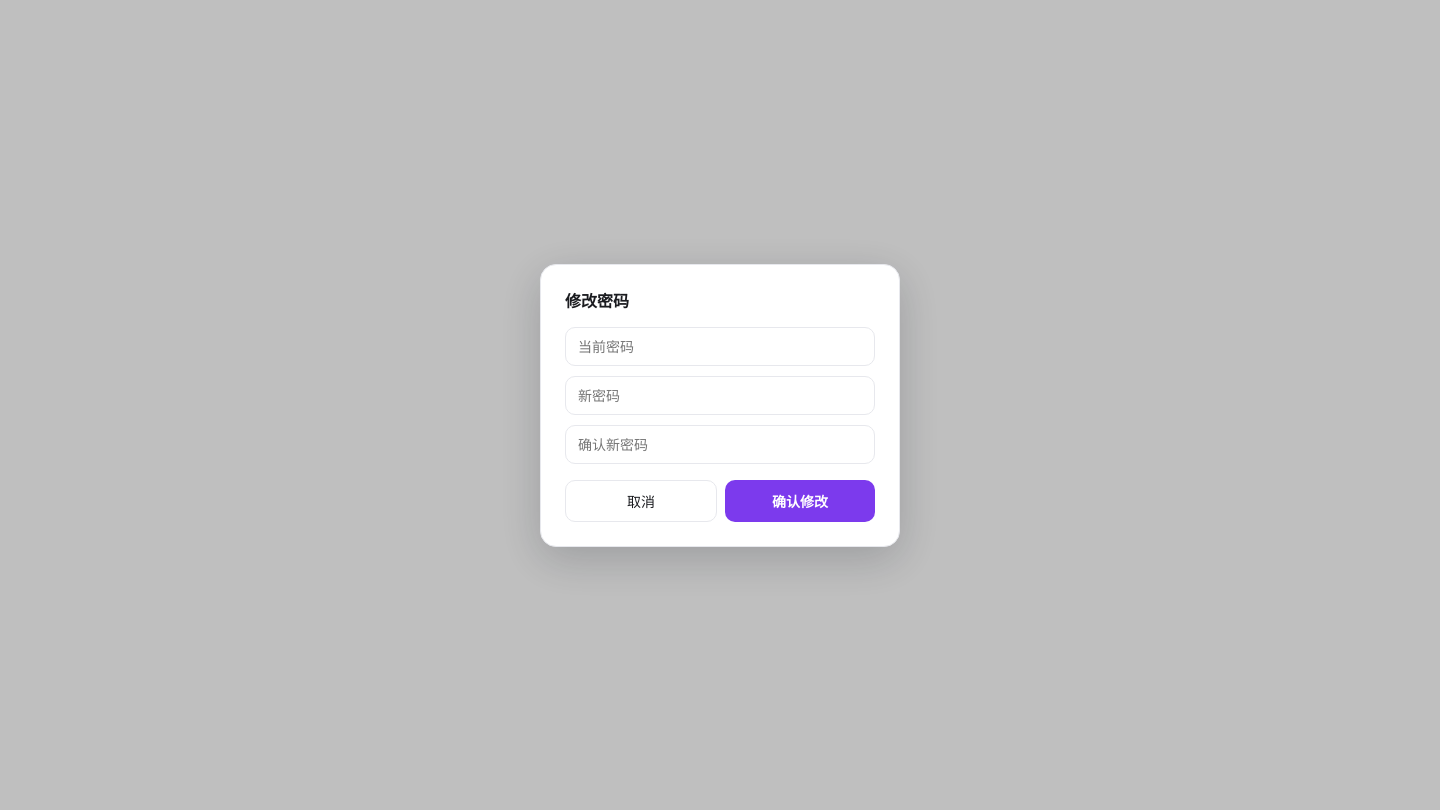
Test case: ChangePasswordDialog › 两次新密码不一致 → 前端拦截, 不调接口
Type "oldpass12" into the password field with placeholder "当前密码". click: [720, 346]
box: [565,326,875,366]
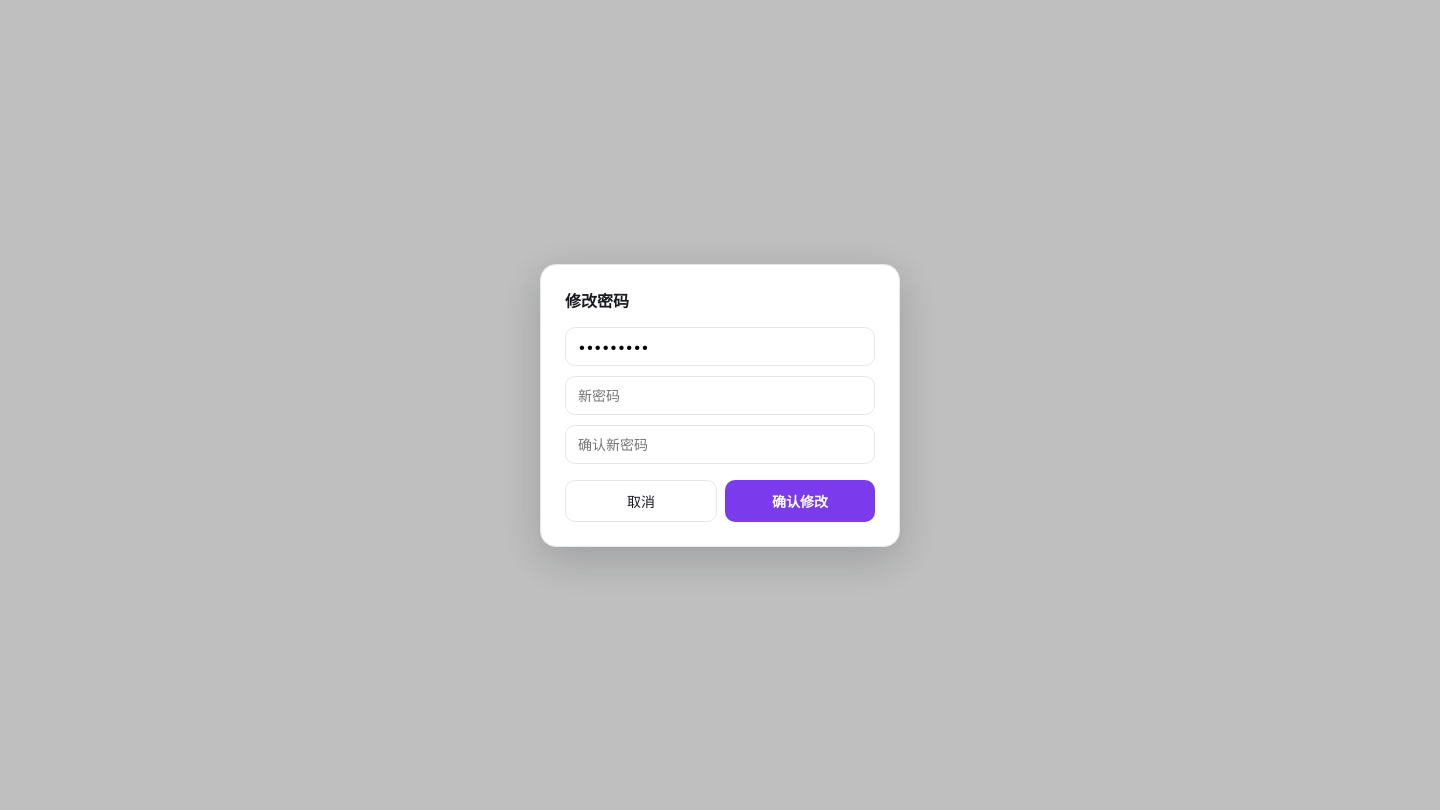
Type "newpass12" into the password field with placeholder "新密码". click: [720, 395]
box: [565,376,875,414]
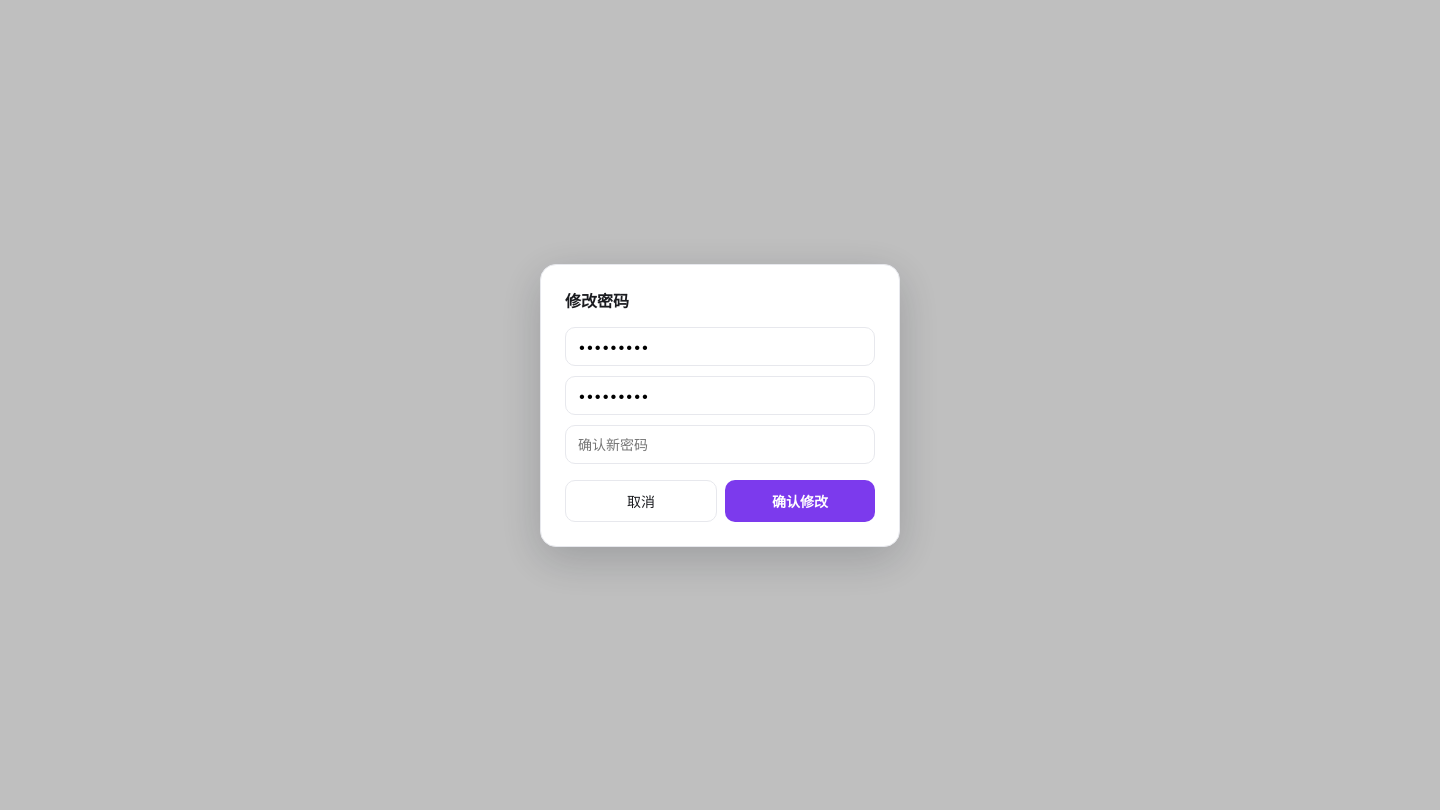
Type "newpass13" into the password field with placeholder "确认新密码". click: [720, 444]
box: [565,424,875,464]
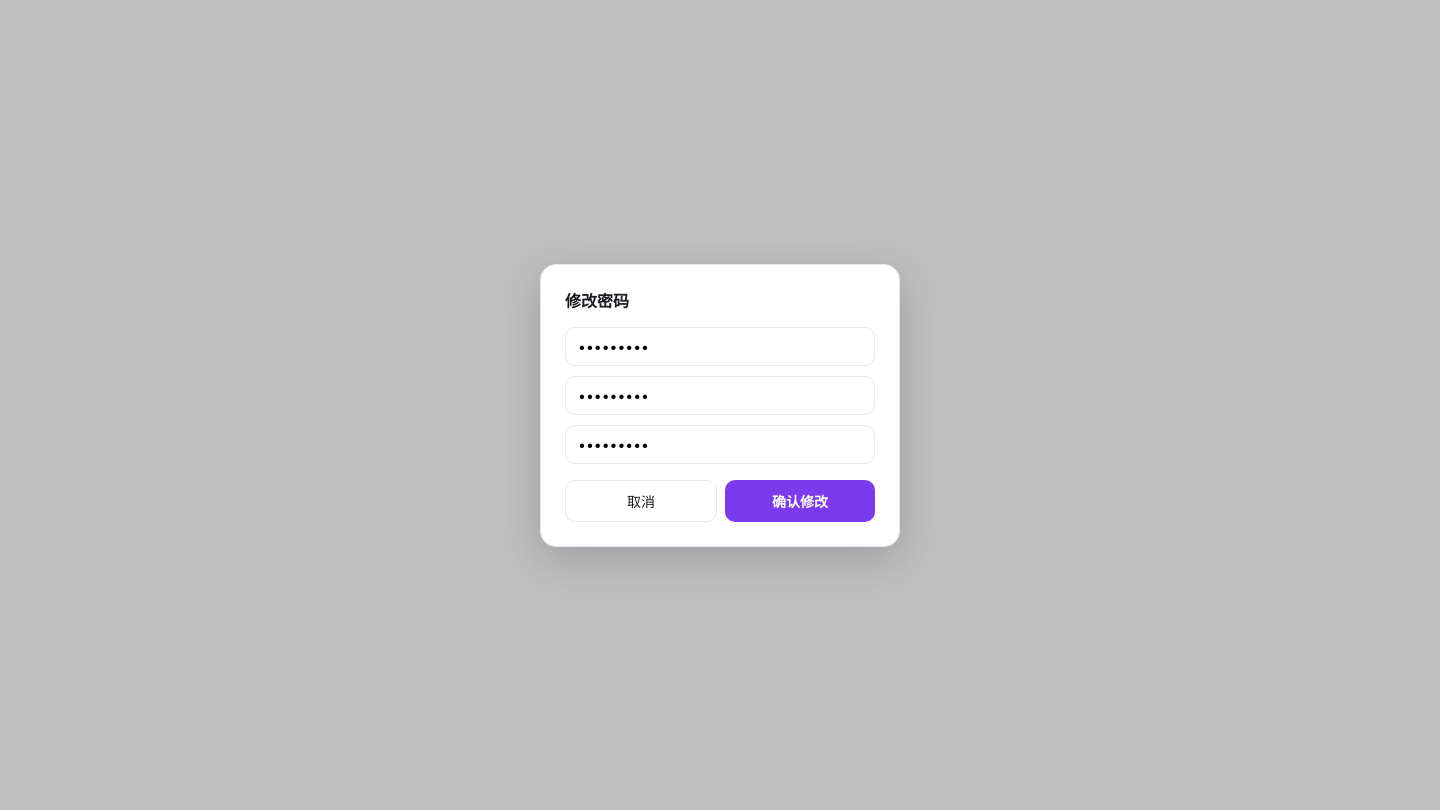
Click the button "确认修改". click: [800, 500]
box: [725,480,875,522]
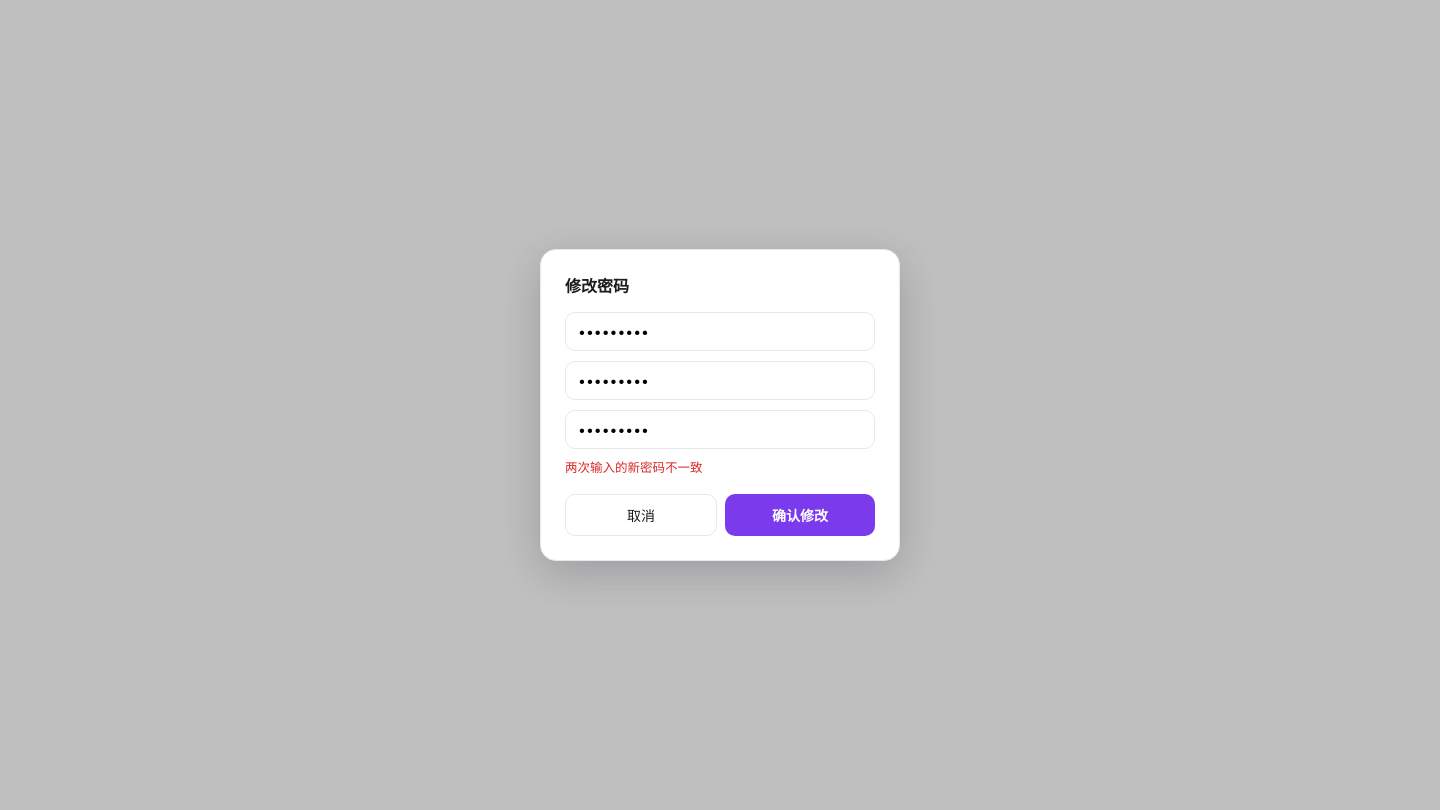
Result: the text "两次输入的新密码不一致" is shown at [565,460,702,475]
